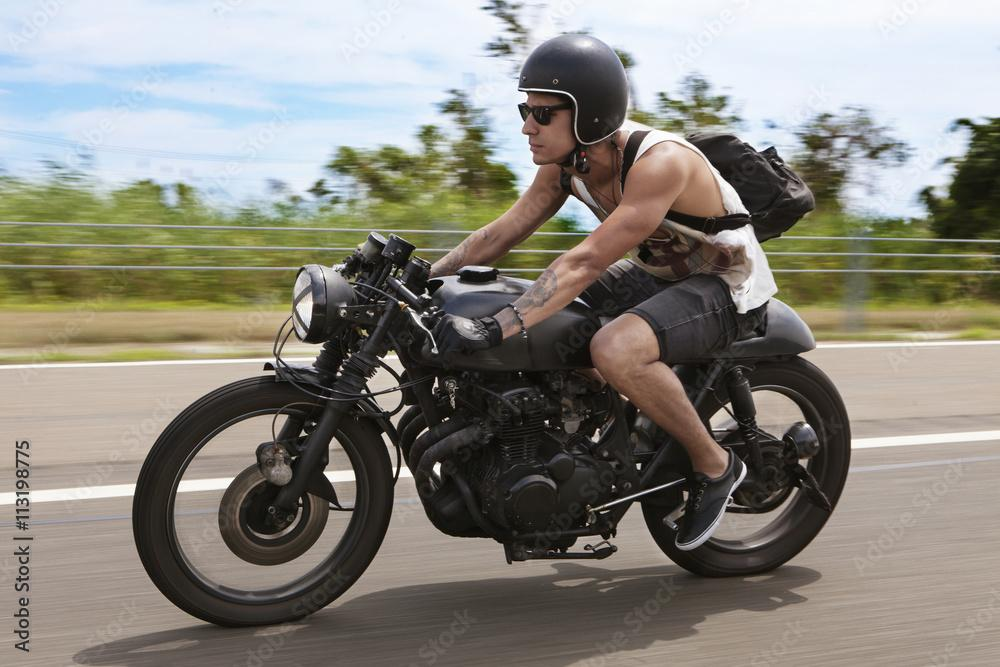helmet: (516, 32, 629, 175)
